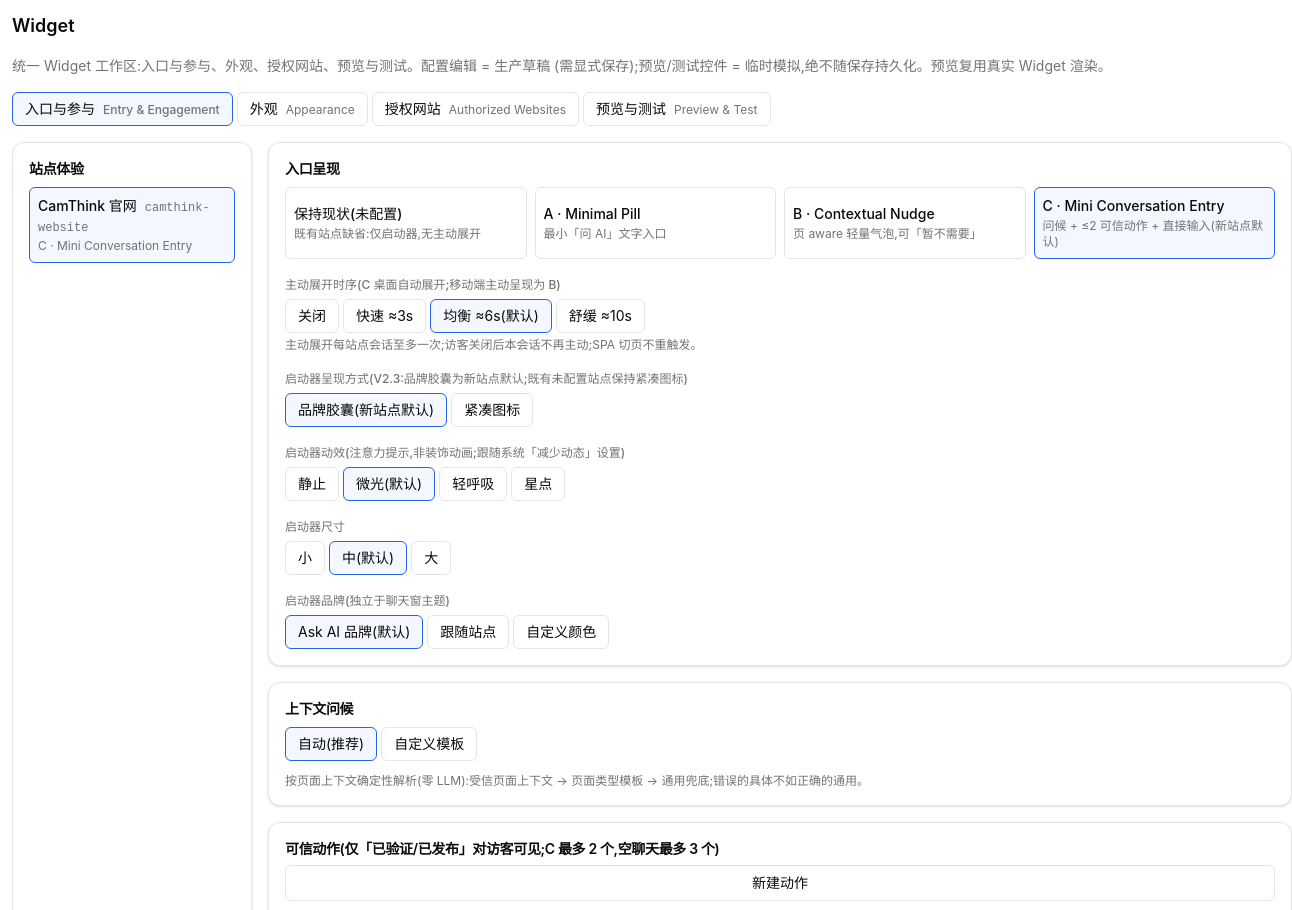
Scenario: Authorized Websites(#6) › 添加来源走 POST 并即时刷新列表
Expected: the text "CamThink 官网" is shown, [38,197,137,214]
Click the tab "授权网站" at [475, 109], box [372,92,579,126]
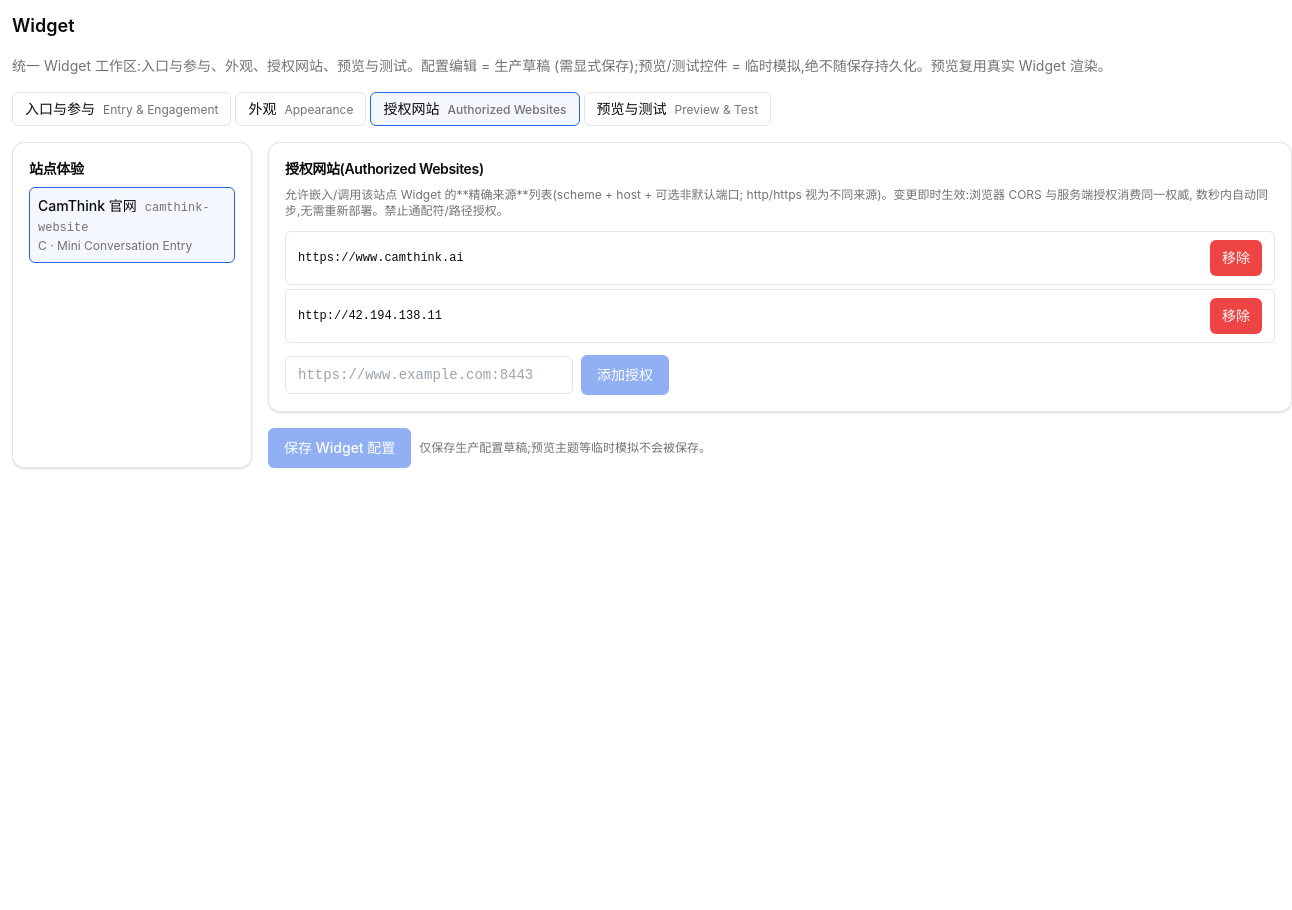
Type "https://new.example.com" into the field named "新增授权来源" at [429, 375], box [285,356,573,394]
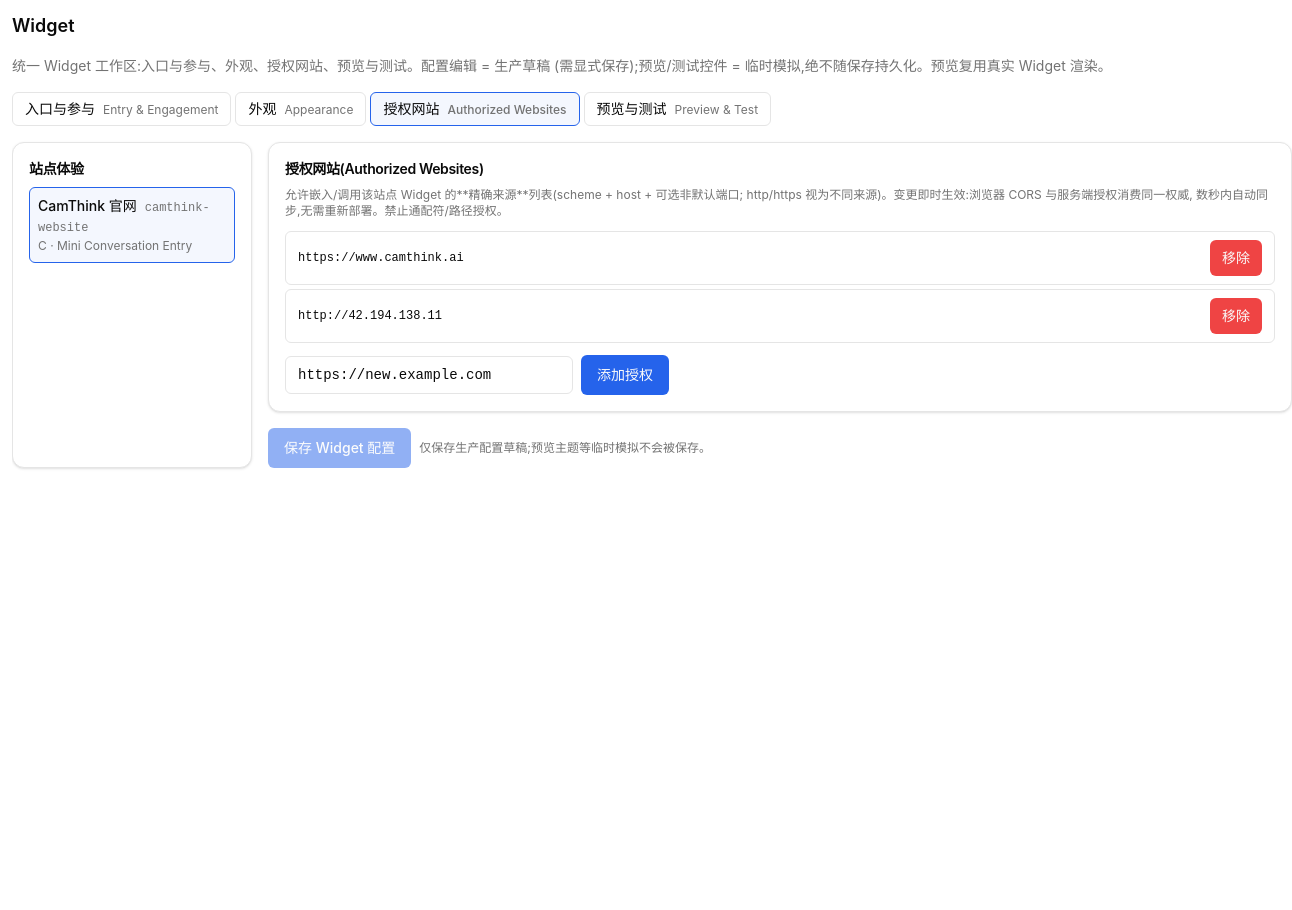
Click the button "添加授权" at [625, 375], box [581,355,669,395]
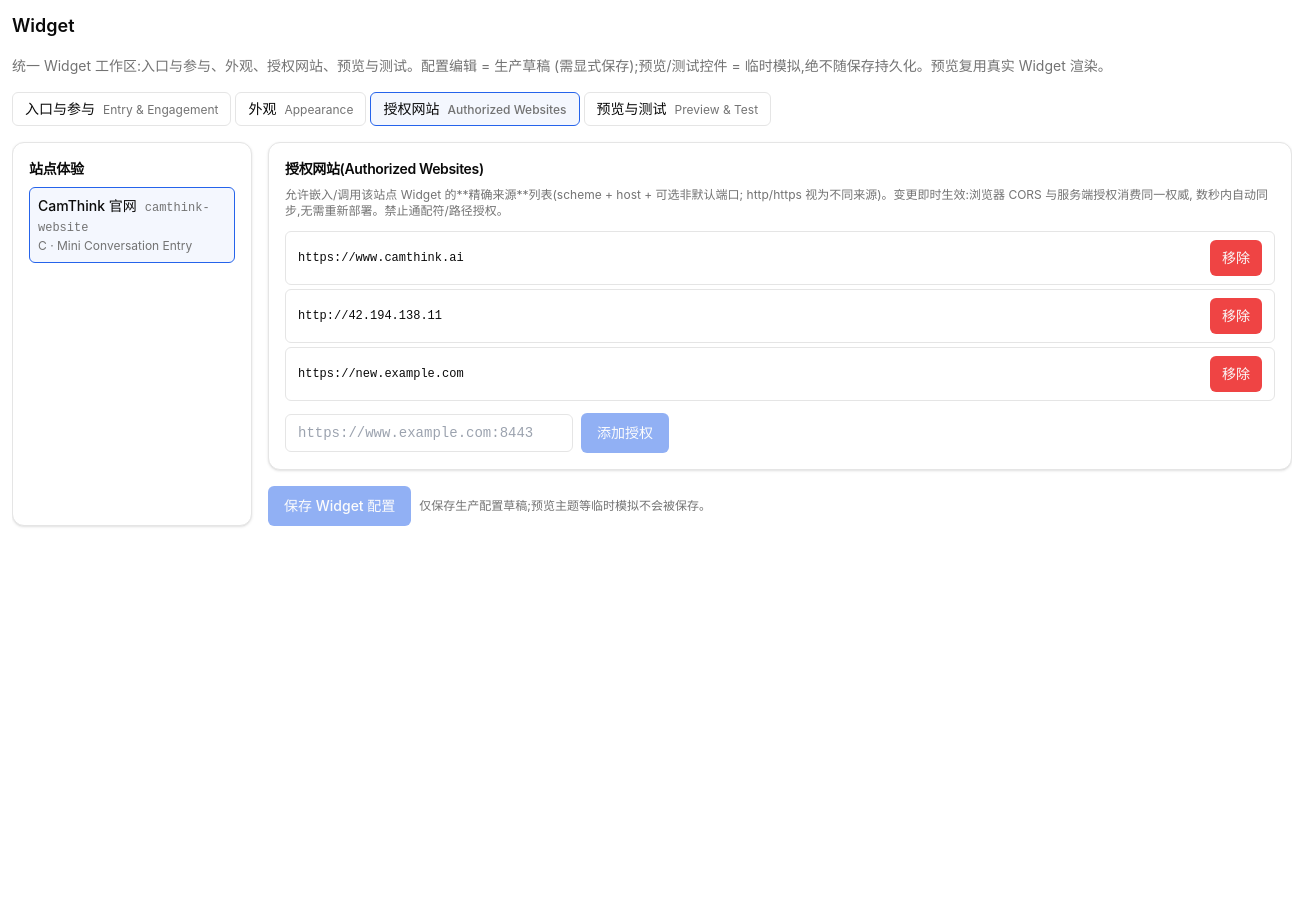
Expected: the text "https://new.example.com" is shown, [298,366,464,382]
